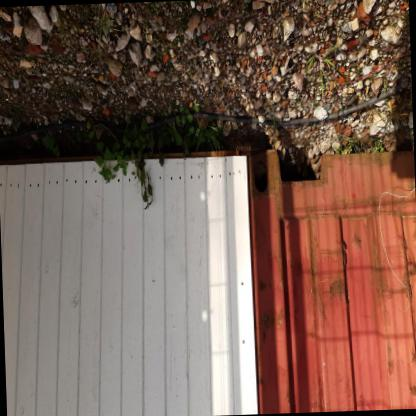CornerCasting: (245, 148, 286, 200)
